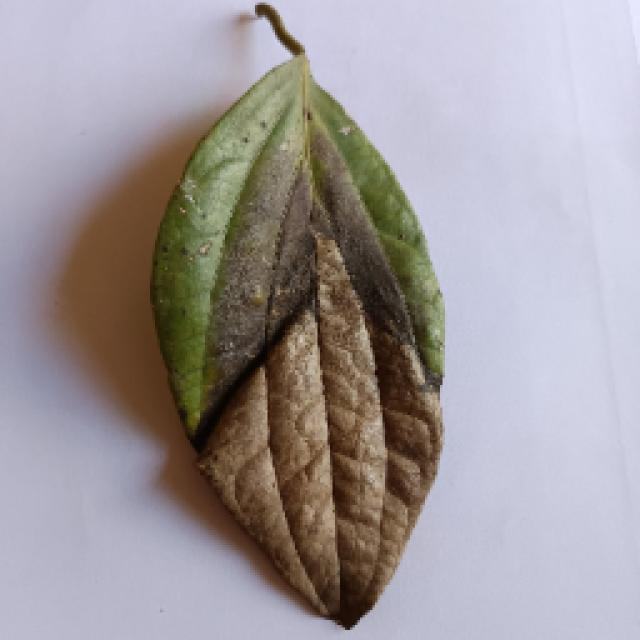footrot: (145, 17, 447, 625)
